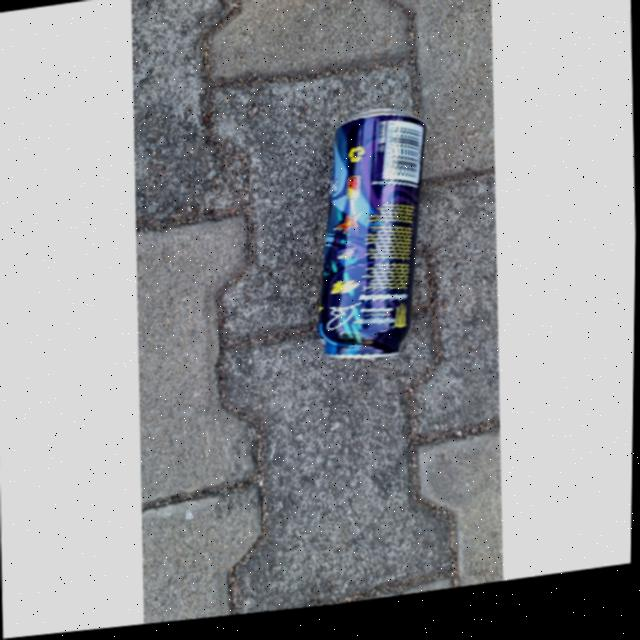Monster LH44: (290, 108, 439, 377)
